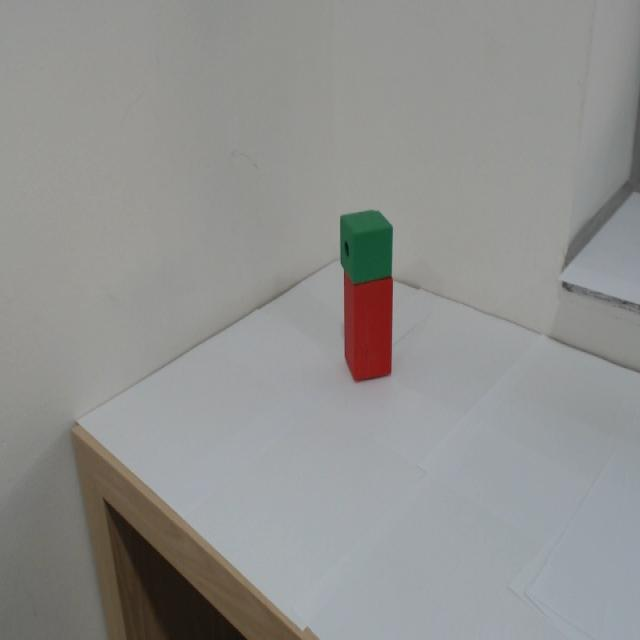cube: (332, 196, 398, 282)
